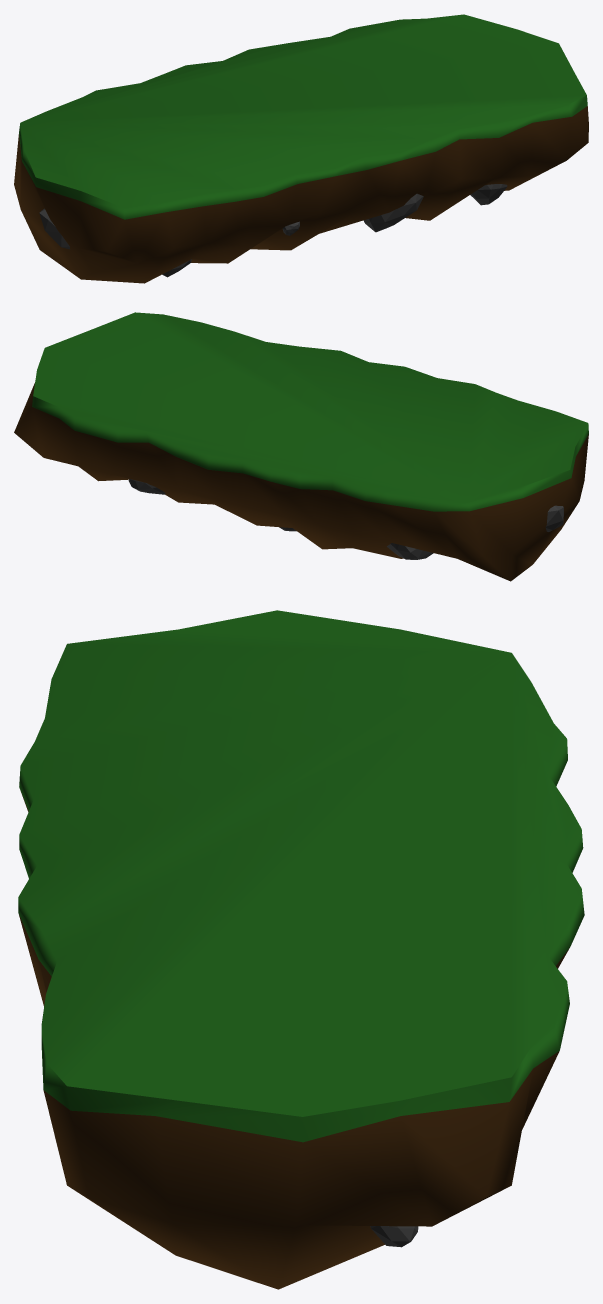
File: Island.fbx
3 views of the same model, one above another, from view 1: azimuth 30°, elevation 25°; view 2: azimuth 150°, elevation 25°; view 3: azimuth 270°, elevation 25° (orthographic). The views are drawn at different scales.
Visible parts, largest first — view 1: Island; view 2: Island; view 3: Island.
Boxes of the visible parts, <box> form: Island: <box>14,14,588,283</box>; Island: <box>14,312,588,581</box>; Island: <box>18,610,584,1289</box>.
Size of the model in its own units: 996 by 2114 by 479.
